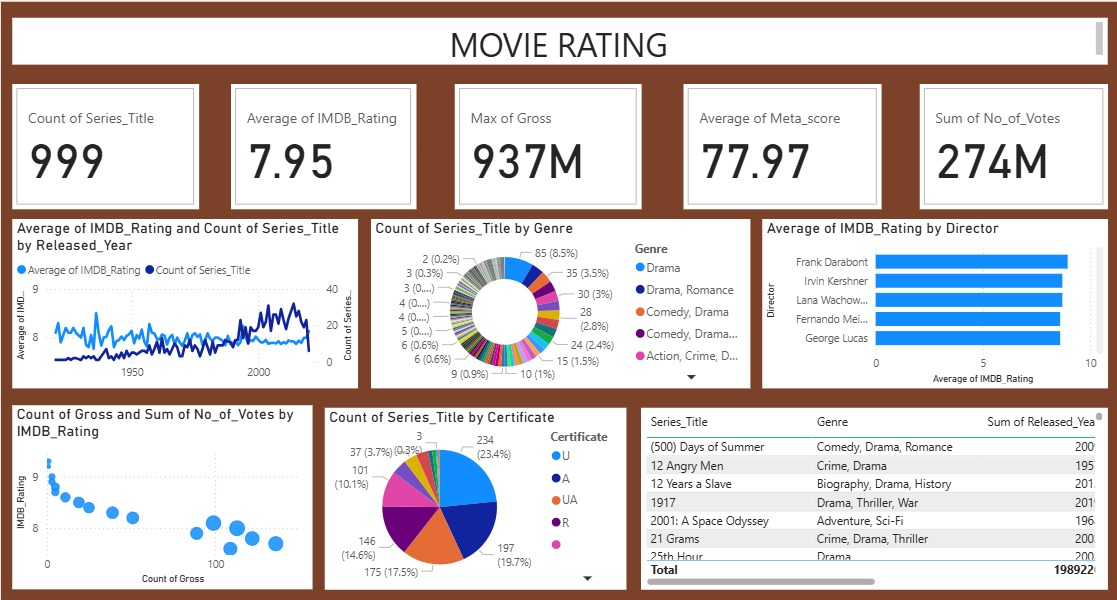

What the dashboard file says about the page in this screenshot:
{"tool":"powerbi","page":{"name":"Page 1","canvas":[1280,720],"ordinal":0},"visuals":[{"type":"cardVisual","fields":{"Data":["movie_dataset__.Series_Title"]},"box":[13.3,125,213.3,143.3],"z":0},{"type":"cardVisual","fields":{"Data":["movie_dataset__.IMDB_Rating"]},"box":[263.3,125,211.7,143.3],"z":1000},{"type":"cardVisual","fields":{"Data":["movie_dataset__.Gross"]},"box":[518.3,125,213.3,143.3],"z":2000},{"type":"cardVisual","fields":{"Data":["movie_dataset__.Meta_score"]},"box":[780,125,226.7,143.3],"z":3000},{"type":"cardVisual","fields":{"Data":["movie_dataset__.No_of_Votes"]},"box":[1050,125,215,143.3],"z":4000},{"type":"lineChart","fields":{"Category":["movie_dataset__.Released_Year"],"Y":["movie_dataset__.IMDB_Rating"],"Y2":["movie_dataset__.Series_Title"]},"box":[13.3,280,395,193.3],"z":5000},{"type":"donutChart","fields":{"Category":["movie_dataset__.Genre"],"Y":["movie_dataset__.Series_Title"]},"box":[423.3,280,433.3,193.3],"z":6000},{"type":"barChart","fields":{"Y":["movie_dataset__.IMDB_Rating"],"Category":["movie_dataset__.Director"]},"box":[870,280,395,193.3],"z":7000},{"type":"scatterChart","fields":{"X":["movie_dataset__.Gross"],"Y":["movie_dataset__.IMDB_Rating"],"Size":["movie_dataset__.No_of_Votes"]},"box":[13.3,493.3,343.3,210],"z":8000},{"type":"pieChart","fields":{"Y":["movie_dataset__.Series_Title"],"Category":["movie_dataset__.Certificate"]},"box":[370,495,345,208.3],"z":9000},{"type":"tableEx","fields":{"Values":["movie_dataset__.Series_Title","movie_dataset__.Genre","movie_dataset__.Released_Year","movie_dataset__.IMDB_Rating","movie_dataset__.Meta_score","movie_dataset__.No_of_Votes","movie_dataset__.Gross"]},"box":[731.7,495,533.3,208.3],"z":10000},{"type":"textbox","box":[13.3,50,1251.7,53.3],"z":11000}]}

Visuals, with their boxes in screenshot pixels (x1, y1, x2, y2):
cardVisual - movie_dataset__.Series_Title: 3,78,191,205
cardVisual - movie_dataset__.IMDB_Rating: 224,78,410,205
cardVisual - movie_dataset__.Gross: 449,78,637,205
cardVisual - movie_dataset__.Meta_score: 679,78,879,205
cardVisual - movie_dataset__.No_of_Votes: 918,78,1107,205
lineChart - movie_dataset__.Released_Year x movie_dataset__.IMDB_Rating: 3,215,351,386
donutChart - movie_dataset__.Genre x movie_dataset__.Series_Title: 365,215,747,386
barChart - movie_dataset__.IMDB_Rating x movie_dataset__.Director: 759,215,1107,386
scatterChart - movie_dataset__.Gross x movie_dataset__.IMDB_Rating: 3,403,306,588
pieChart - movie_dataset__.Series_Title x movie_dataset__.Certificate: 318,405,622,588
tableEx - movie_dataset__.Series_Title x movie_dataset__.Genre: 637,405,1107,588
textbox: 3,12,1107,59
